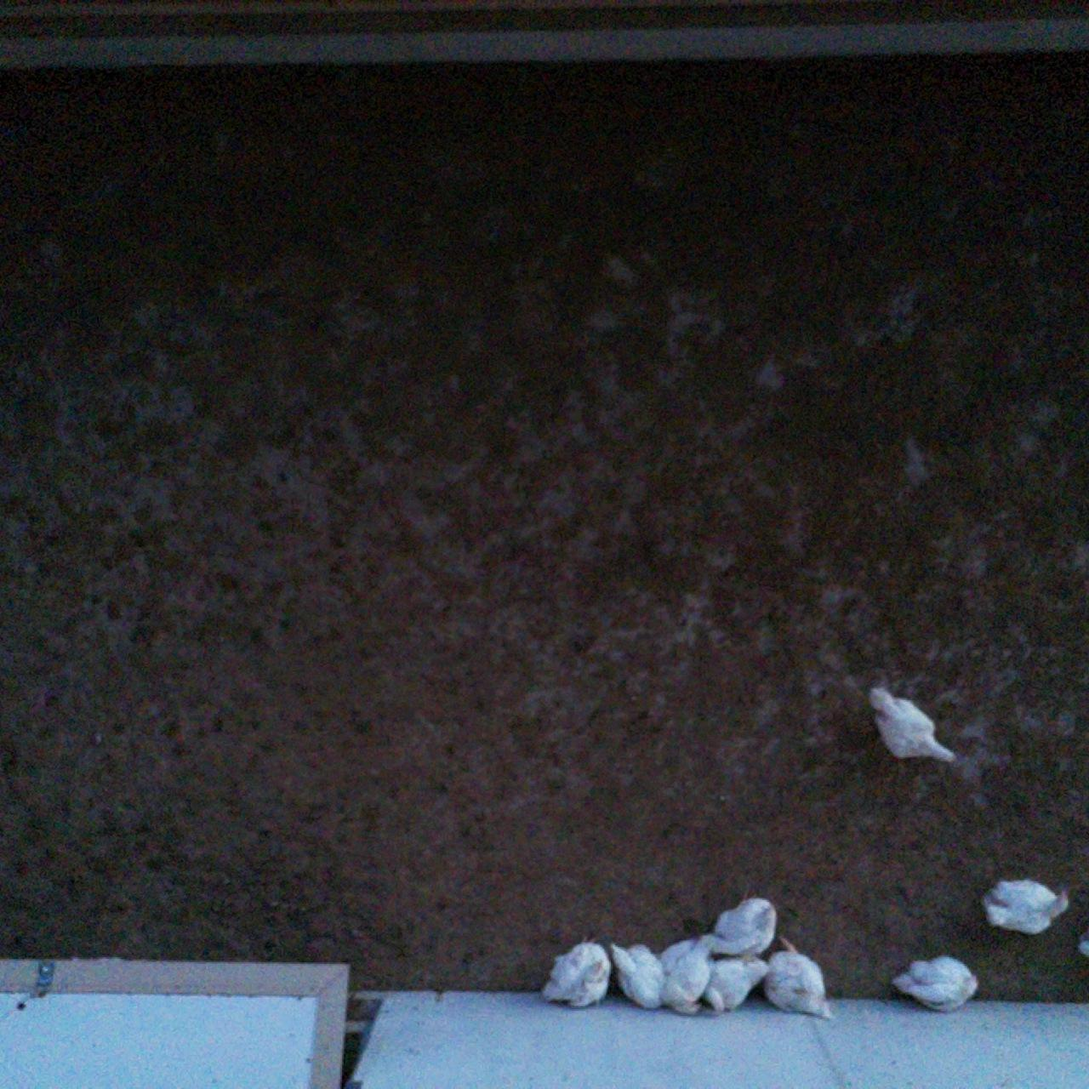chicken: (864, 680, 961, 771), (757, 933, 838, 1024), (539, 928, 616, 1015), (979, 871, 1073, 942), (886, 951, 982, 1015), (706, 882, 779, 960), (657, 927, 719, 1017), (702, 946, 772, 1015), (607, 936, 667, 1013)
